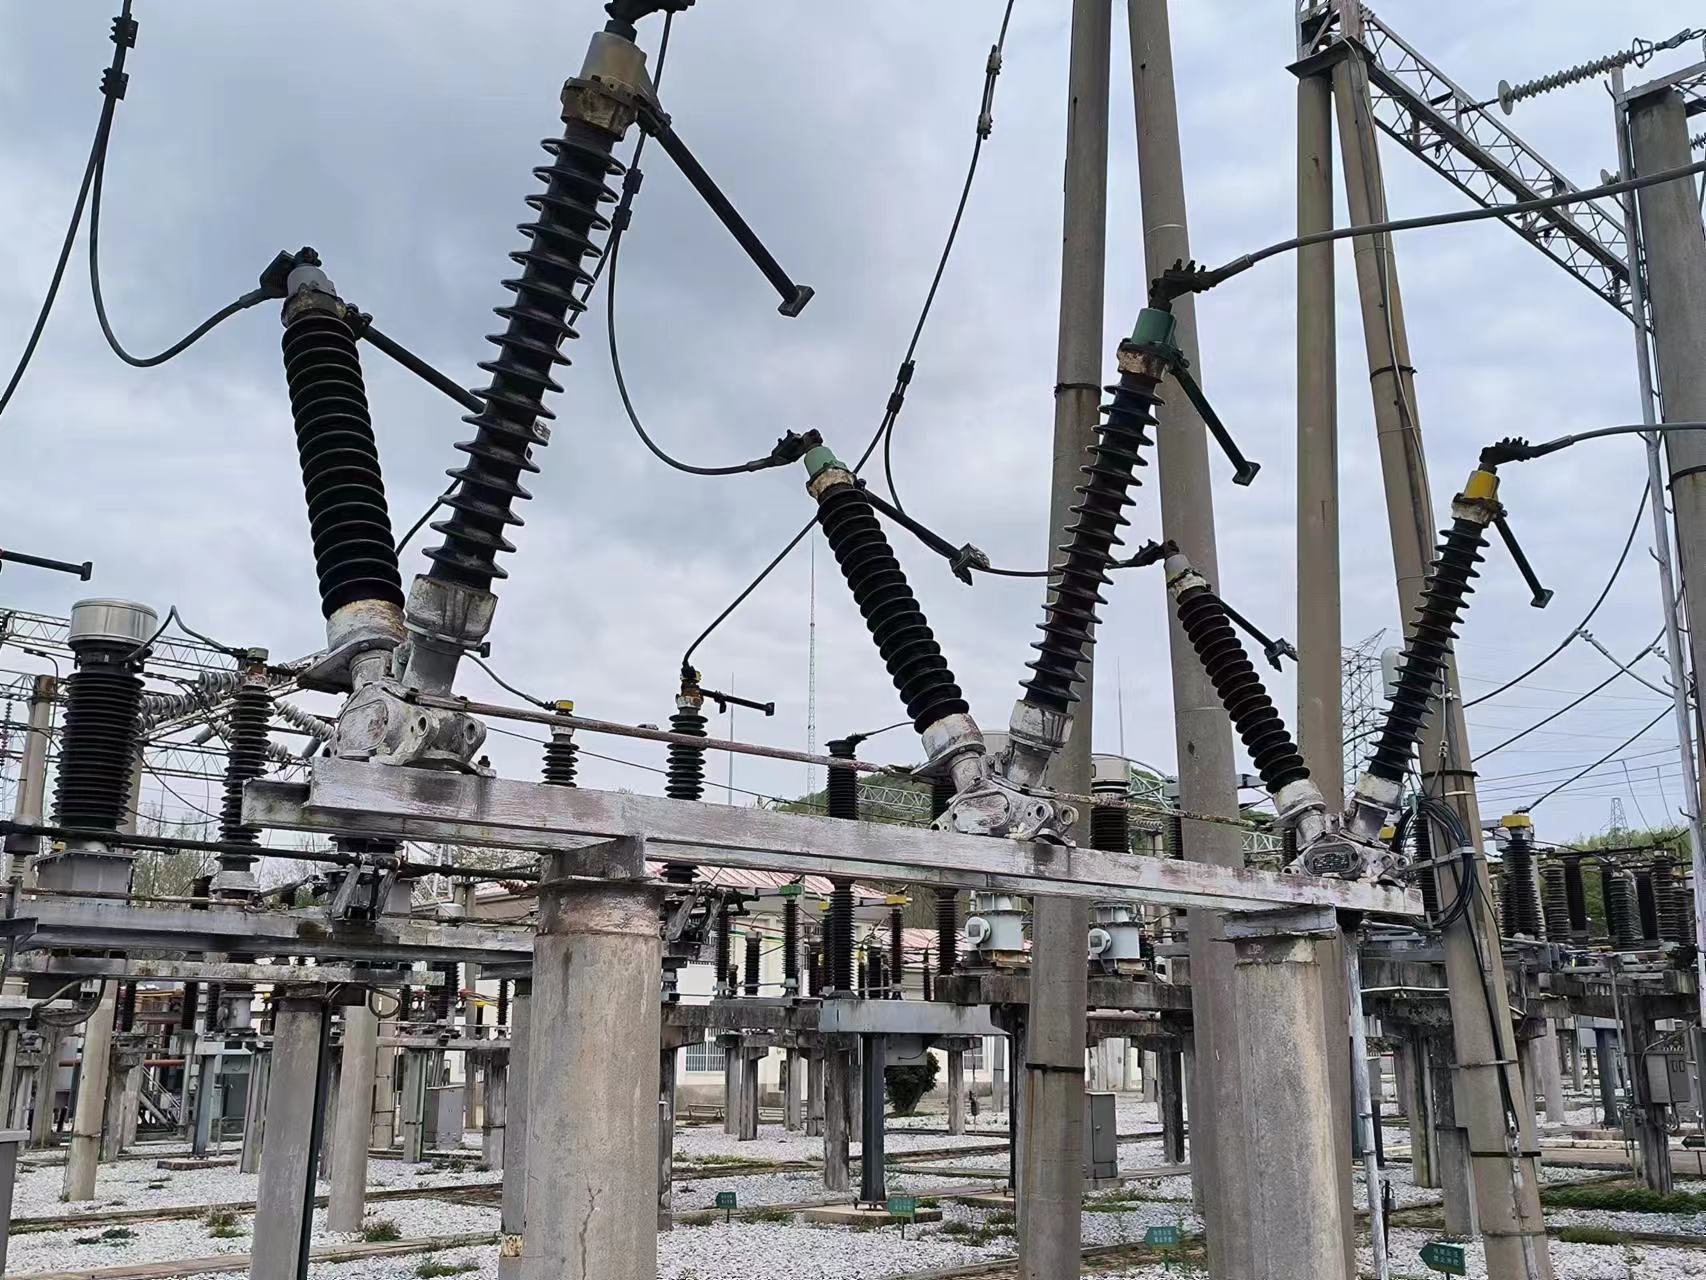Current transformer: (32, 594, 157, 906)
Isolating switch: (229, 13, 817, 756), (773, 262, 1260, 823), (1148, 425, 1555, 851)
